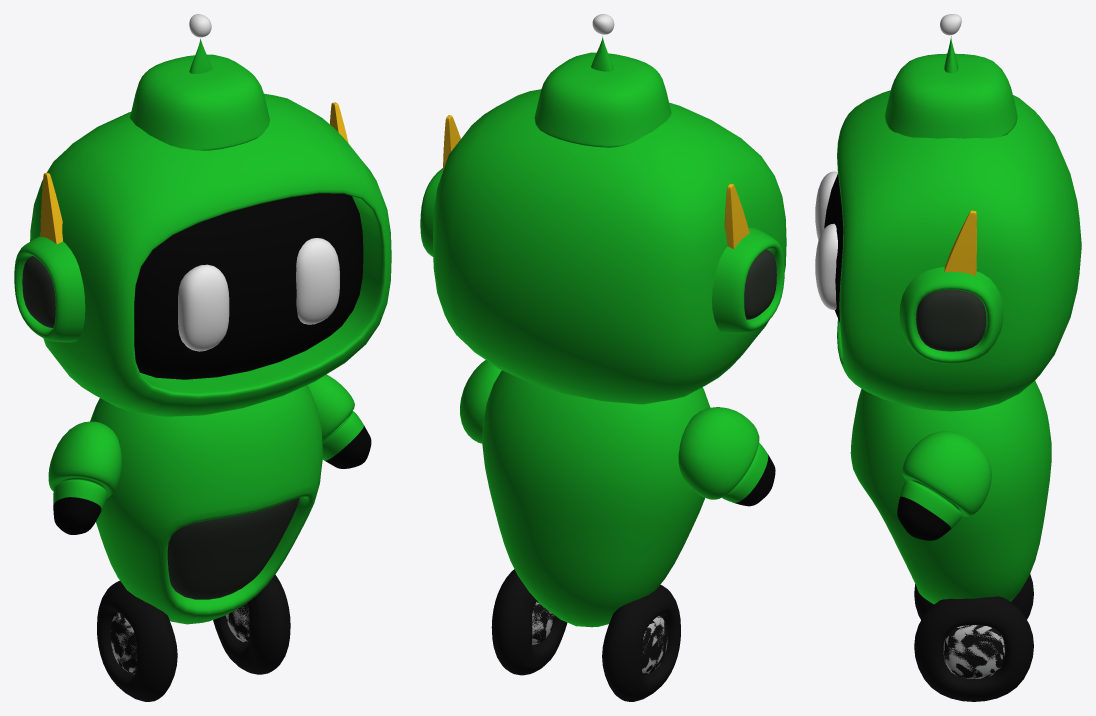
The model's file is Harvester Robot.fbx.
3 views of the same model, side by side, from view 1: azimuth 30°, elevation 25°; view 2: azimuth 150°, elevation 25°; view 3: azimuth 270°, elevation 25° (orthographic). The views are drawn at different scales.
Parts seen in each view (by area): view 1: Head.001, Body.001, Wheels.001, Hat.001, Arms.001, Eyes.001, Ears.001, EarsPoint.001; view 2: Head.001, Body.001, Wheels.001, Hat.001, Arms.001, Ears.001, EarsPoint.001; view 3: Head.001, Body.001, Wheels.001, Hat.001, Ears.001, Arms.001, Eyes.001, EarsPoint.001.
Part boxes in pixels (x1,y1,x2,y2): Head.001: (30, 93, 391, 416); Body.001: (90, 385, 322, 624); Wheels.001: (97, 574, 290, 701); Hat.001: (129, 54, 269, 150); Arms.001: (48, 374, 371, 534); Eyes.001: (178, 238, 339, 351); Ears.001: (14, 236, 85, 342); EarsPoint.001: (40, 102, 348, 244); Head.001: (433, 89, 786, 404); Body.001: (482, 370, 710, 627); Wheels.001: (491, 569, 680, 701); Hat.001: (534, 52, 671, 147); Arms.001: (460, 360, 775, 506); Ears.001: (420, 168, 784, 333); EarsPoint.001: (443, 115, 749, 249); Head.001: (824, 90, 1081, 411); Body.001: (850, 380, 1051, 604); Wheels.001: (914, 574, 1033, 701); Hat.001: (885, 53, 1017, 138); Ears.001: (899, 267, 1003, 363); Arms.001: (897, 431, 991, 540); Eyes.001: (815, 171, 837, 309); EarsPoint.001: (944, 210, 976, 275).
Bounding box in the file's own units: 202 × 392 × 144.
